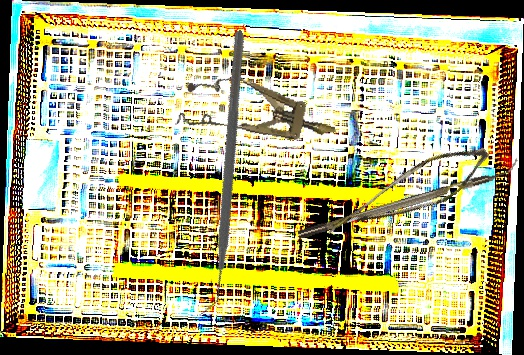Chopper: (92, 29, 348, 316), (294, 156, 522, 239)
Micro Scissor: (322, 120, 496, 270)
Speculum: (175, 65, 343, 161)
